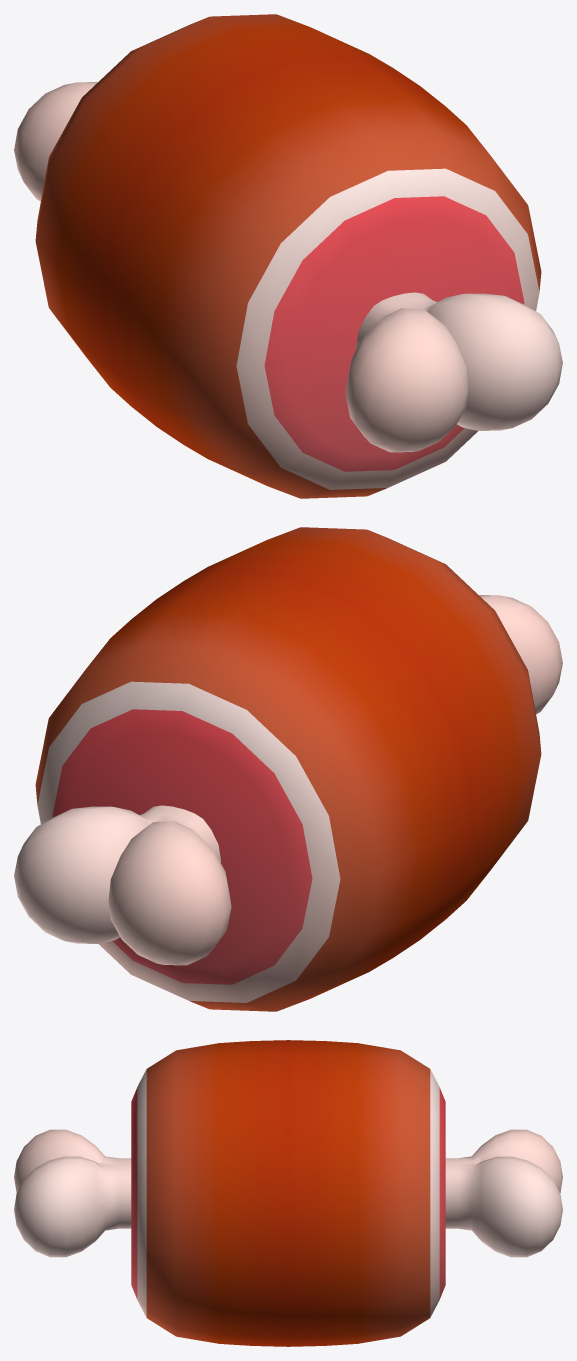
The model's file is Meat_V1_00.fbx.
3 renders of one model, top to bottom at view 1: azimuth 30°, elevation 25°; view 2: azimuth 150°, elevation 25°; view 3: azimuth 270°, elevation 25°, orthographic. The views are drawn at different scales.
Parts seen in each view (by area): view 1: Meat_V1_00; view 2: Meat_V1_00; view 3: Meat_V1_00.
Part boxes in pixels (left/top/right/bottom): Meat_V1_00: left=14, top=14, right=562, bottom=498; Meat_V1_00: left=14, top=527, right=562, bottom=1011; Meat_V1_00: left=14, top=1040, right=562, bottom=1346.
Bounding box in the file's own units: 37.54 × 37.54 × 67.11.
